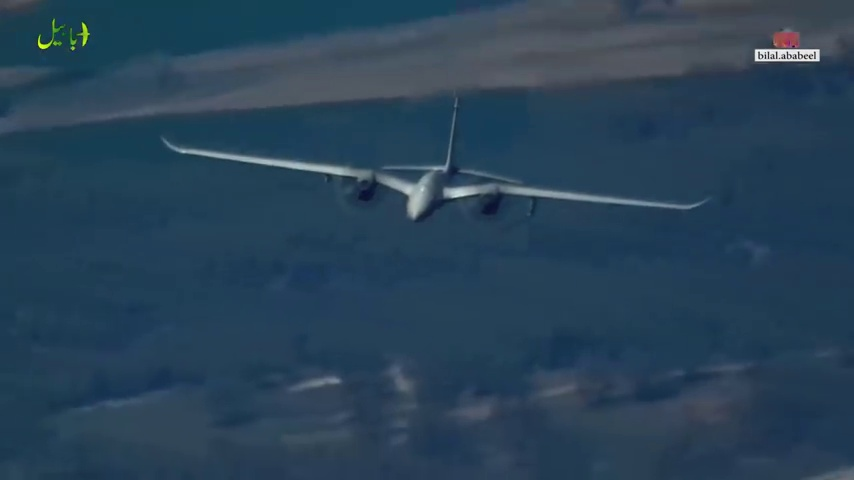military drone: (159, 95, 715, 222)
